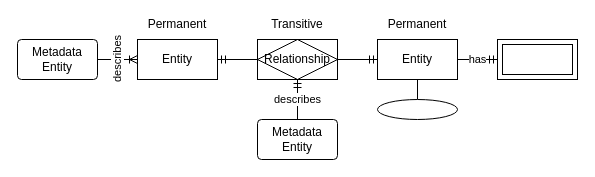
Some shapes in this 595 by 177 pixel diagram are drawn without their labels. The box of each missing label's shape, as (x1, y1, x2, y2) in pixels:
Attribute: (376, 98, 458, 120)
Sub (Weak) Entity: (496, 38, 578, 80)
